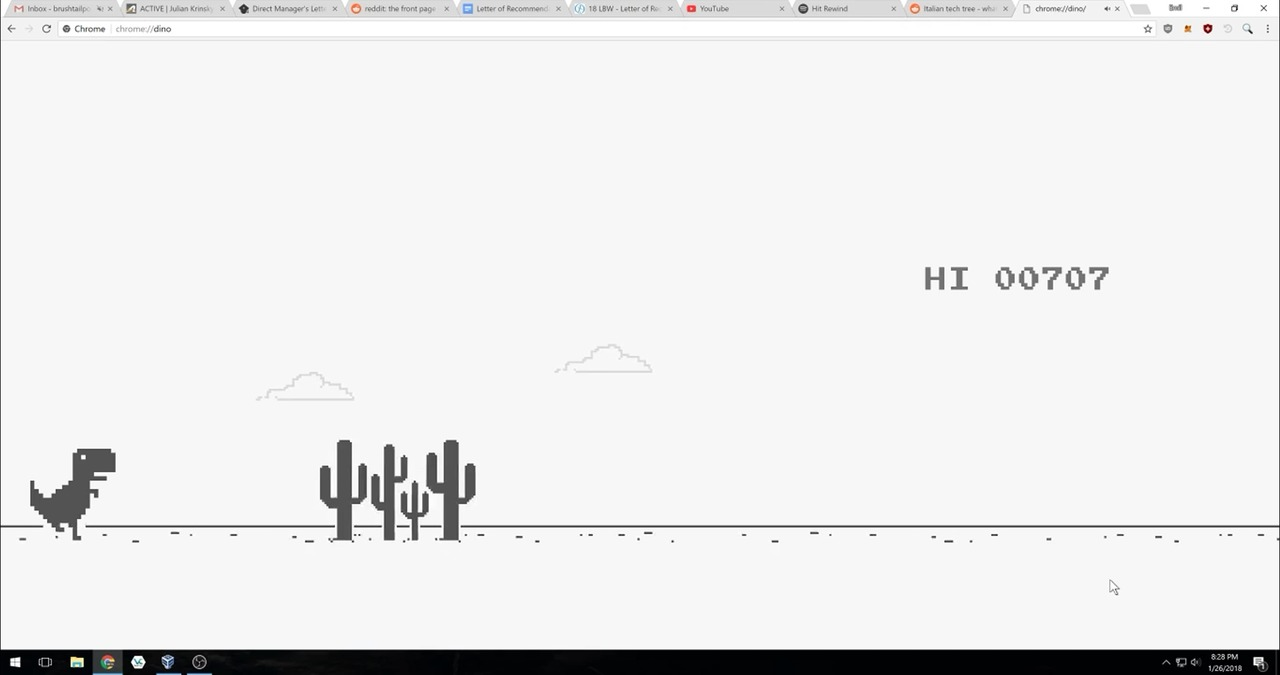cactus: (318, 439, 480, 543)
dinosaur: (31, 445, 118, 543)
